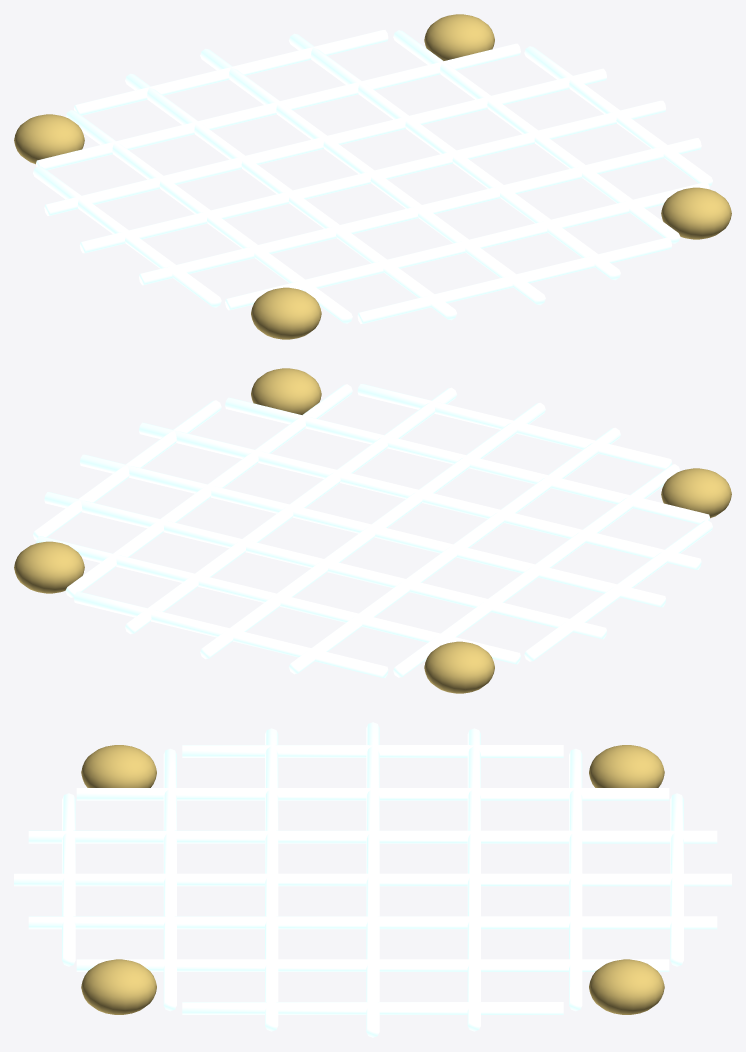
The model's file is SM_NetProjectile.fbx.
3 renders of one model, top to bottom at view 1: azimuth 30°, elevation 25°; view 2: azimuth 150°, elevation 25°; view 3: azimuth 270°, elevation 25°, orthographic. The views are drawn at different scales.
Visible parts, largest first — view 1: SM_NetProjectile; view 2: SM_NetProjectile; view 3: SM_NetProjectile.
Part boxes in pixels (<box>): SM_NetProjectile: <box>14,14,731,339</box>; SM_NetProjectile: <box>14,368,731,693</box>; SM_NetProjectile: <box>14,722,731,1037</box>.
Size of the model in its own units: 1.7 by 0.12 by 1.7.
